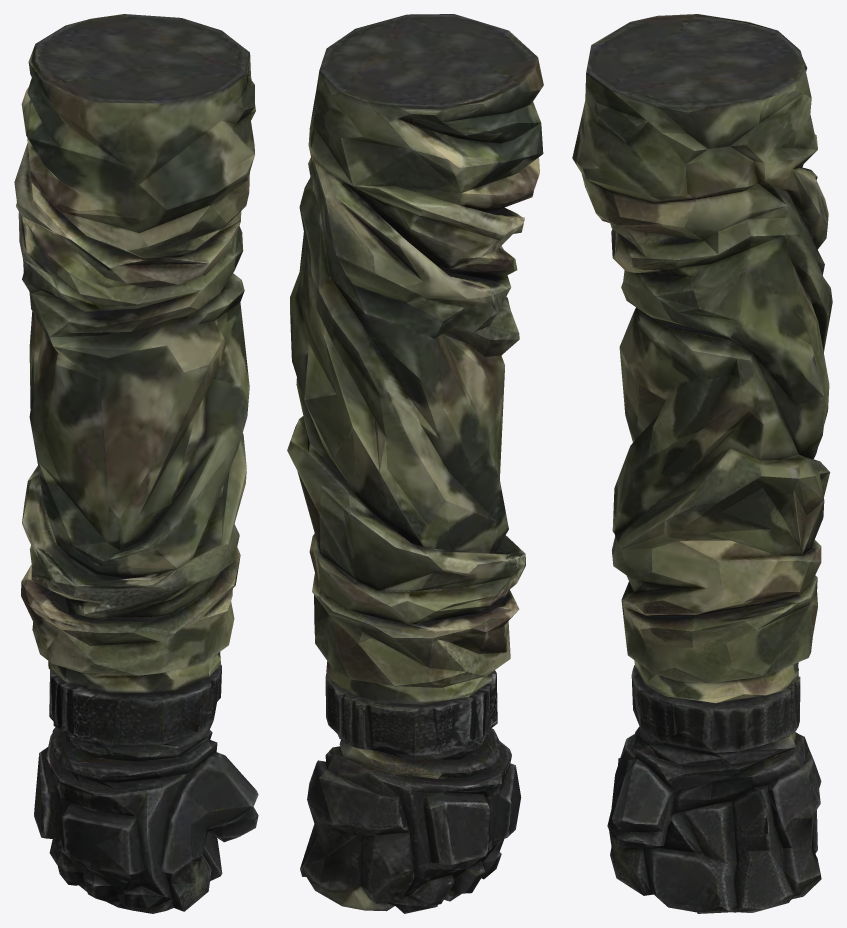
The model's file is arm_camo.glb.
3 views of the same model, side by side, from view 1: azimuth 30°, elevation 25°; view 2: azimuth 150°, elevation 25°; view 3: azimuth 270°, elevation 25° (orthographic).
Size of the model in its own units: 0.2658 by 1 by 0.2882.
1 material, 1 textured.
